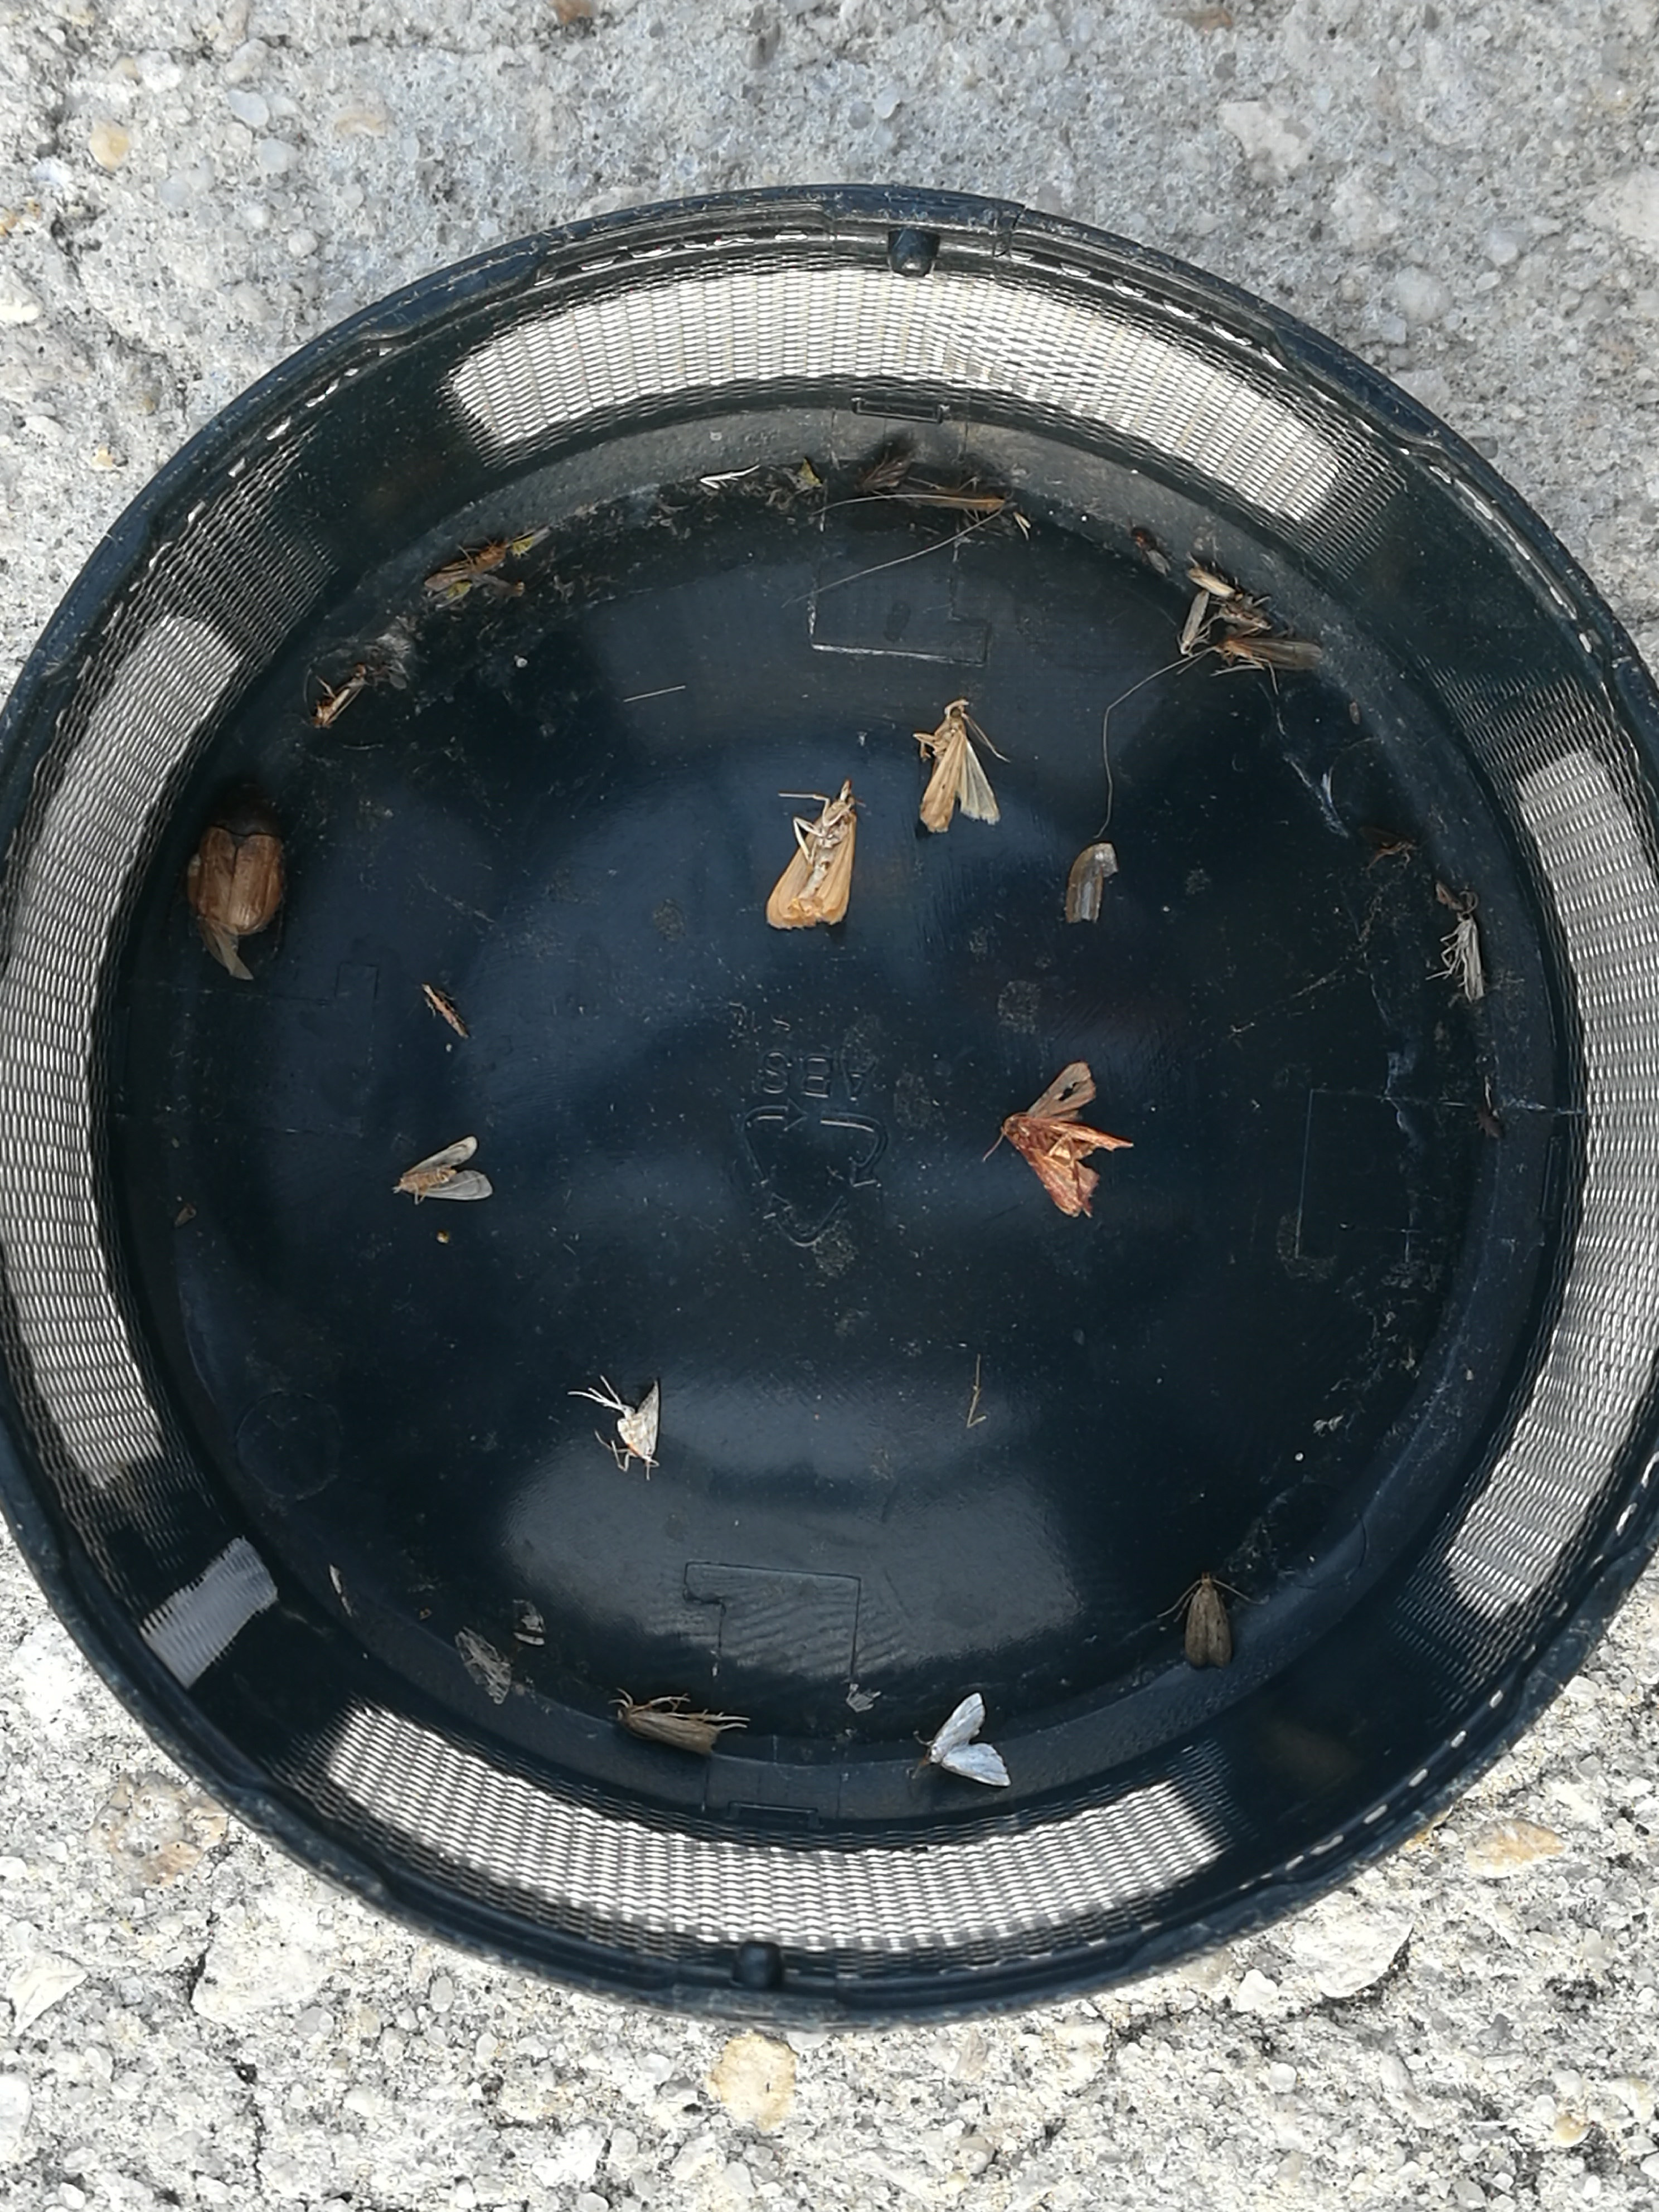beetle: (186, 782, 286, 932)
mosquito: (613, 1698, 741, 1749), (897, 484, 1007, 512), (1216, 637, 1321, 665), (1462, 918, 1485, 1003)
moth: (1000, 1062, 1100, 1217), (767, 786, 854, 928), (918, 698, 997, 829), (929, 1693, 1009, 1785), (397, 1139, 488, 1200), (1187, 1575, 1234, 1663), (617, 1385, 657, 1461)
